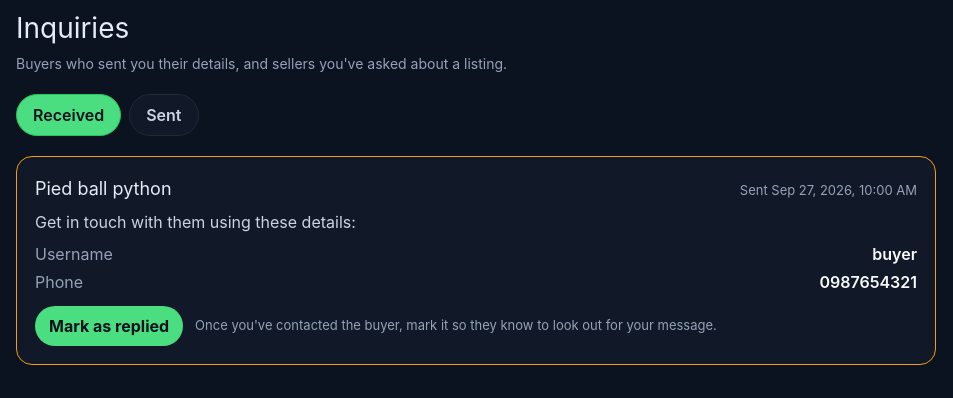
Scenario: InquiriesPage › shows a received inquiry with the buyer's details and marks it replied
Expected: the text "0987654321" is shown, [819,270,917,294]
Click the button "Mark as replied" at [109, 326], box [35,306,183,346]
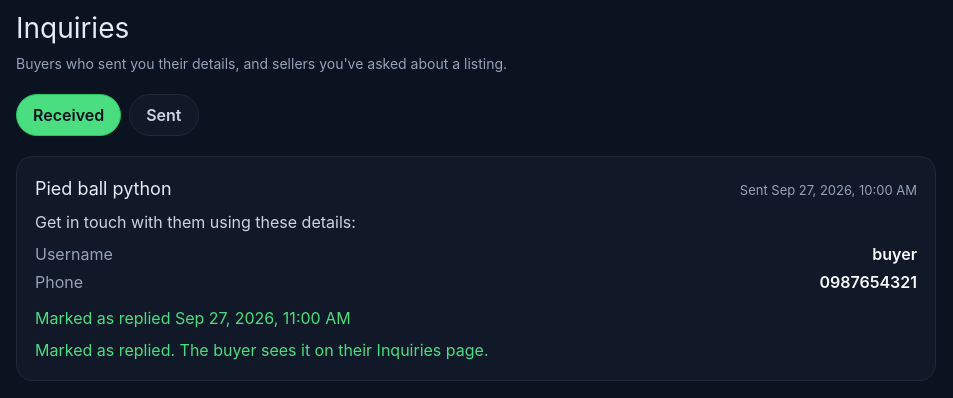
Now the message reads "Marked as replied. The buyer sees it on their Inquiries page.", box [35,340,488,360]
Now the button "Mark as replied" is gone
